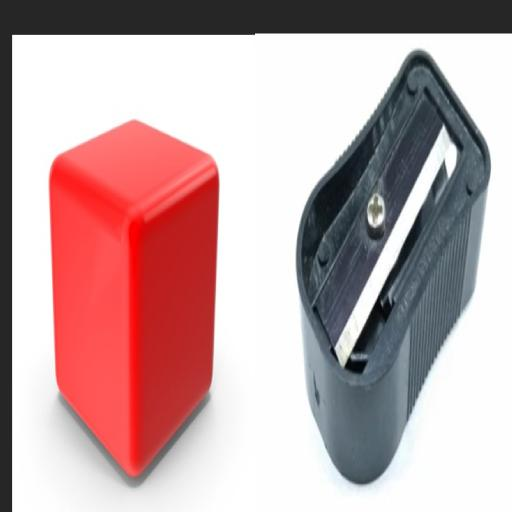red_block: (12, 34, 244, 507)
sharpener: (268, 34, 512, 497)
